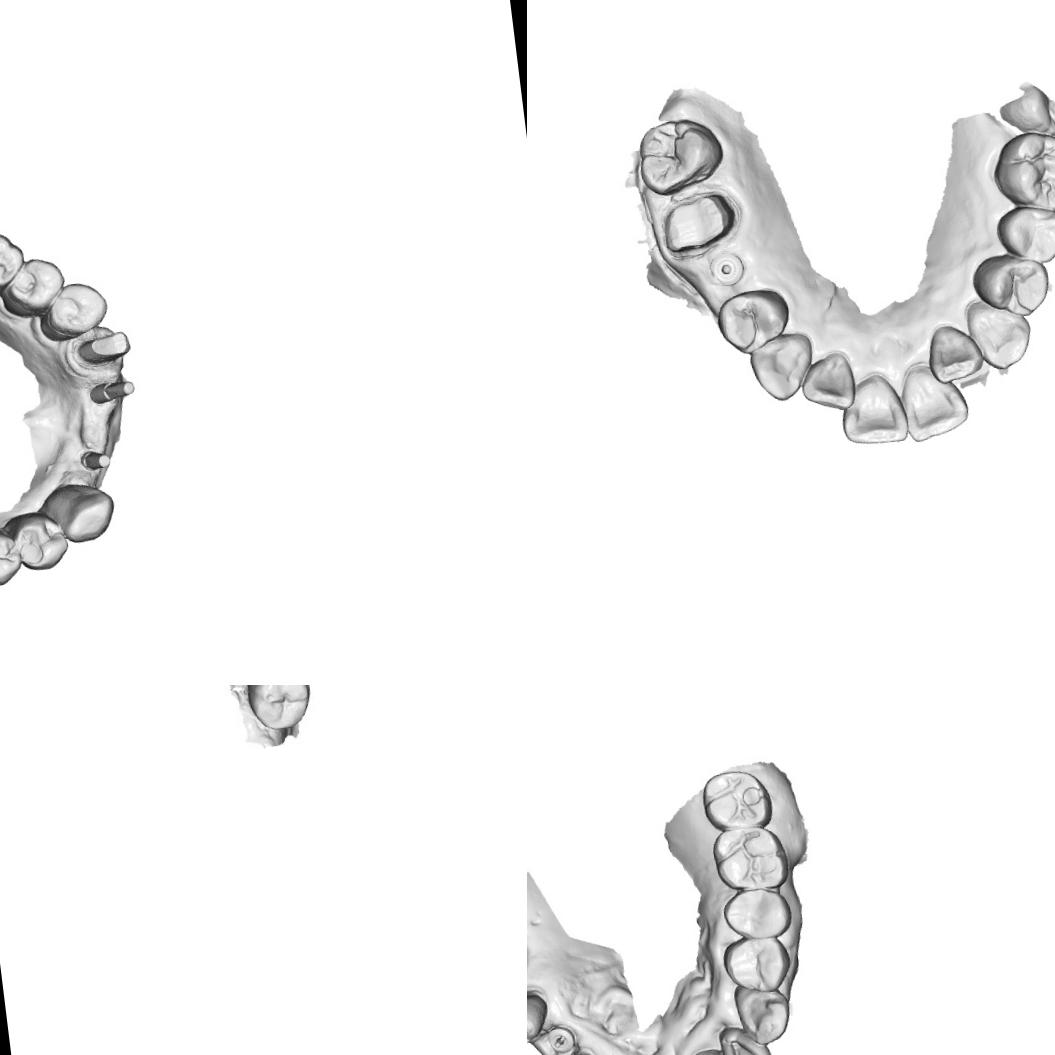abutment: (86, 376, 138, 408), (78, 448, 112, 474)
canine: (34, 477, 118, 550), (744, 331, 817, 406), (962, 297, 1034, 372), (732, 978, 794, 1048)
crown: (660, 192, 738, 254), (70, 325, 134, 372)
implant: (709, 246, 750, 292)
implant_minus: (545, 1022, 577, 1055)
incisor: (896, 357, 972, 445), (837, 372, 911, 450), (798, 352, 859, 416), (924, 322, 984, 386), (717, 1021, 775, 1055)
molar: (632, 114, 726, 198), (986, 127, 1055, 219), (709, 823, 791, 895), (700, 766, 774, 834), (239, 685, 312, 738), (0, 228, 29, 299)
premolar: (967, 249, 1053, 324), (714, 286, 794, 355), (35, 279, 111, 344), (719, 932, 794, 997), (2, 507, 72, 576), (0, 254, 69, 321), (720, 884, 794, 944), (990, 202, 1055, 270), (527, 991, 553, 1055), (0, 521, 24, 589)
